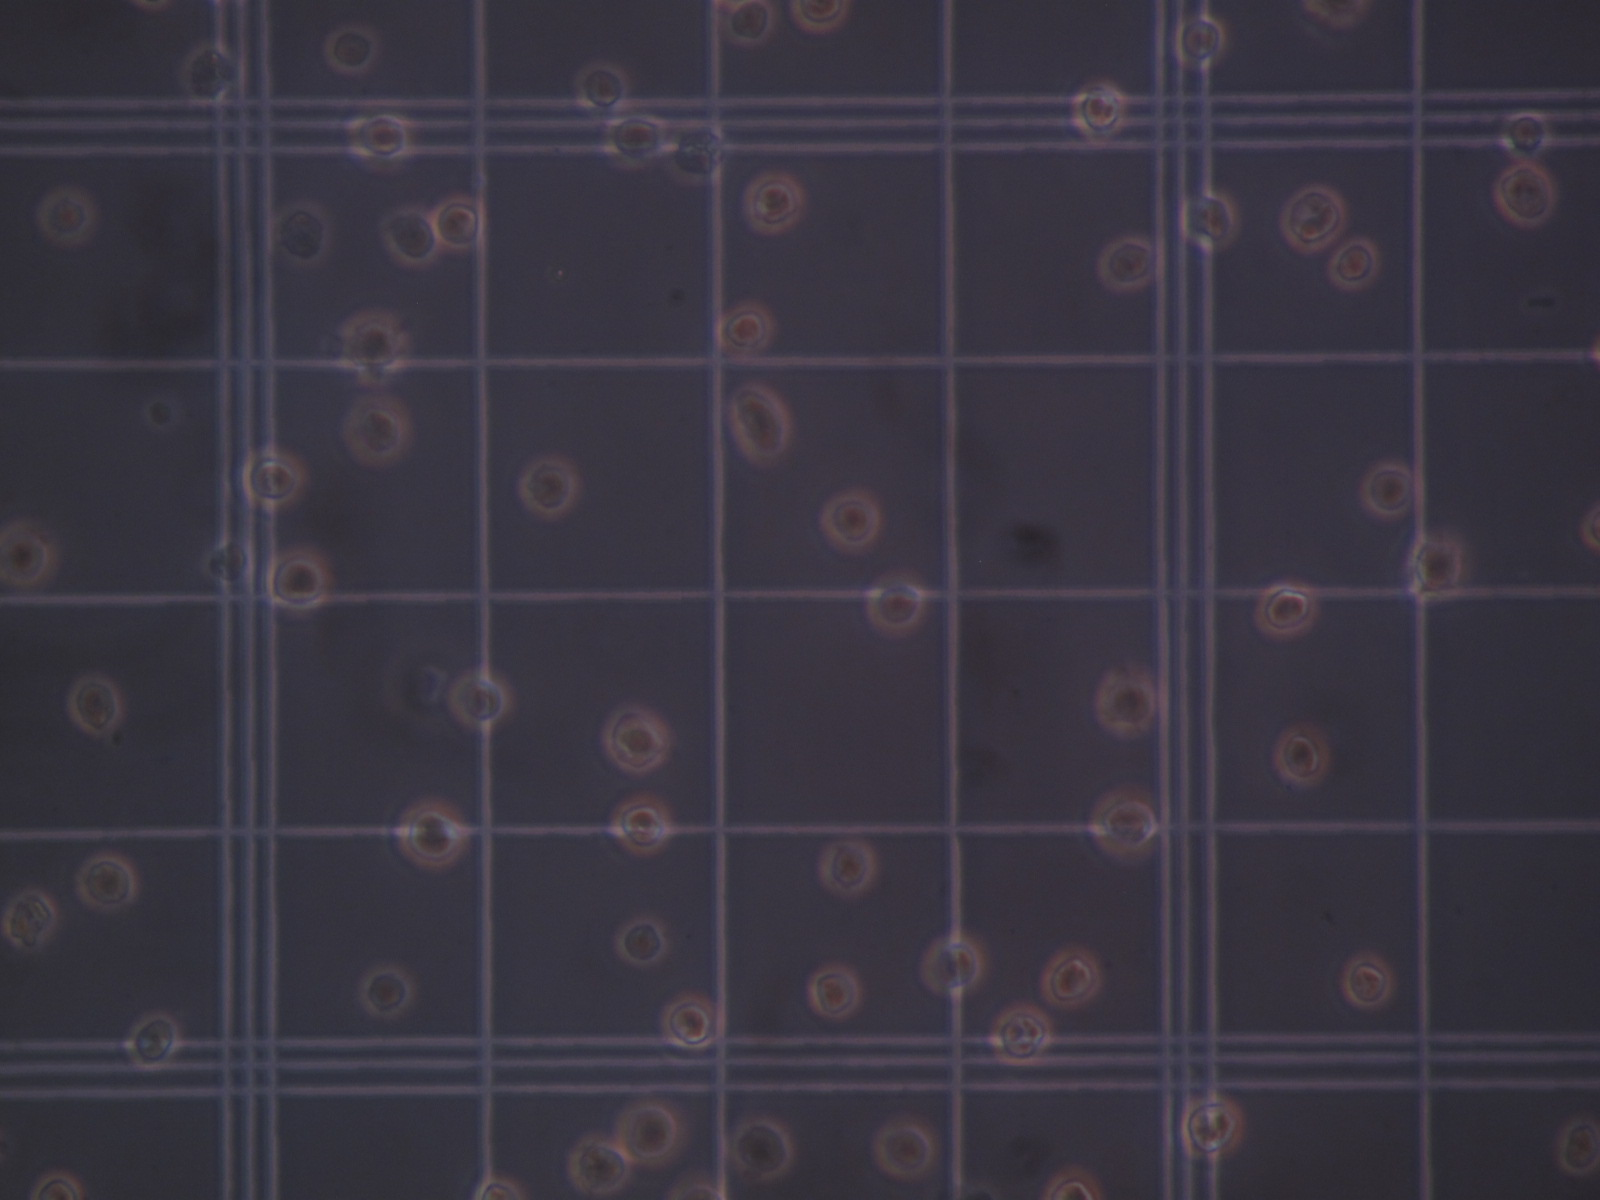hemo: (396, 795, 467, 874), (1089, 784, 1157, 863), (1277, 182, 1348, 256), (601, 705, 671, 776), (341, 391, 409, 465), (731, 386, 789, 468), (616, 1098, 687, 1165), (336, 311, 409, 376), (341, 108, 414, 173), (872, 1114, 939, 1182), (866, 566, 927, 639), (1180, 1093, 1245, 1162), (268, 543, 333, 613), (1094, 666, 1155, 737), (241, 446, 306, 512), (670, 116, 732, 185), (1406, 532, 1466, 603), (988, 1001, 1052, 1066), (1271, 721, 1330, 792), (270, 199, 334, 263), (1493, 161, 1555, 228), (564, 1134, 631, 1196), (375, 205, 438, 270), (729, 1116, 792, 1179), (1255, 576, 1320, 637), (1041, 942, 1101, 1007), (820, 492, 883, 553), (449, 668, 513, 729), (610, 794, 671, 856), (1180, 192, 1241, 255), (742, 171, 803, 234), (713, 300, 777, 358), (1070, 79, 1124, 147), (522, 458, 580, 519), (76, 855, 139, 911), (819, 836, 876, 897), (3, 889, 57, 953), (1097, 234, 1157, 292), (921, 937, 980, 995), (186, 45, 244, 102), (67, 673, 121, 734), (3, 521, 52, 586), (38, 187, 94, 243), (1169, 13, 1225, 71), (806, 963, 860, 1022), (661, 995, 721, 1049), (125, 1012, 179, 1071), (602, 115, 664, 166), (357, 964, 413, 1018), (1362, 461, 1415, 519), (321, 24, 380, 76), (614, 916, 668, 971), (1329, 239, 1382, 294), (433, 194, 485, 250), (1294, 1, 1369, 39), (1343, 950, 1391, 1008), (574, 63, 630, 111), (1498, 110, 1550, 160), (1558, 1116, 1600, 1176), (724, 1, 775, 50), (202, 539, 254, 585), (1042, 1165, 1104, 1200), (789, 1, 853, 34), (671, 1171, 729, 1200), (31, 1172, 82, 1200), (472, 1176, 525, 1200)
